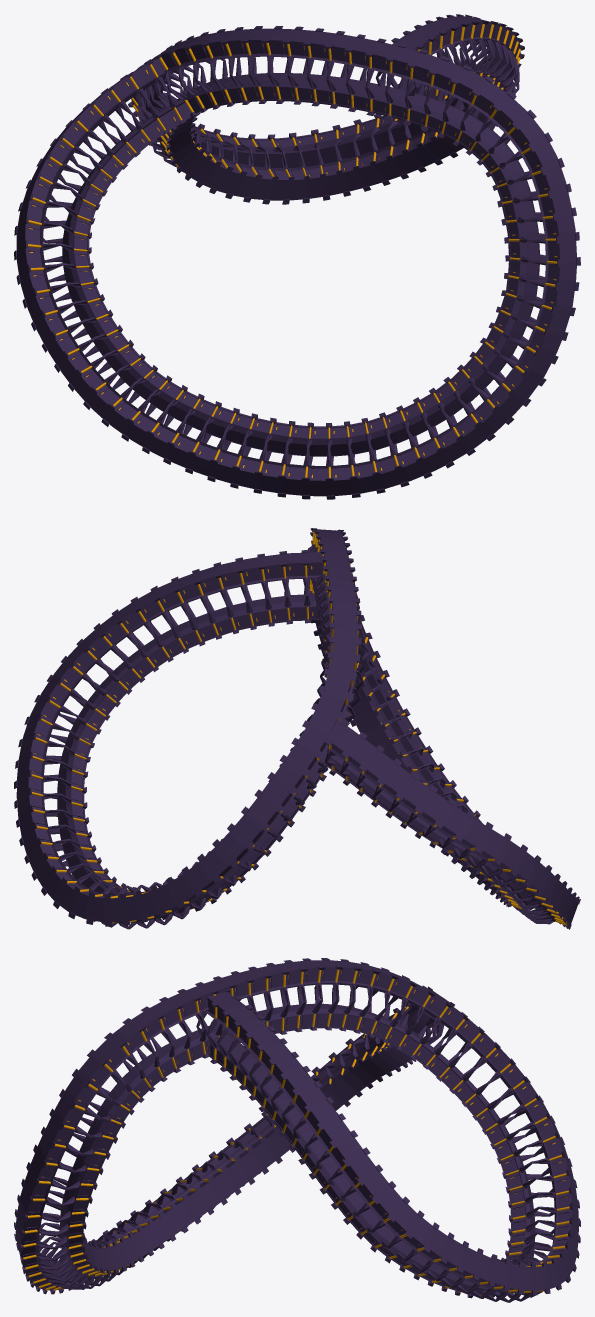
Rendered from roundabout_4.fbx.
The picture shows the model from 3 angles, top to bottom: view 1: azimuth 30°, elevation 25°; view 2: azimuth 150°, elevation 25°; view 3: azimuth 270°, elevation 25°; orthographic projection. The views are drawn at different scales.
Visible parts, largest first — view 1: ra4rd; view 2: ra4rd; view 3: ra4rd.
Boxes of the visible parts, x1,y1,x2,y2 form: ra4rd: [14, 14, 580, 499]; ra4rd: [14, 528, 580, 929]; ra4rd: [14, 958, 580, 1302].
Size of the model in its own units: 1213 by 835 by 1225.
